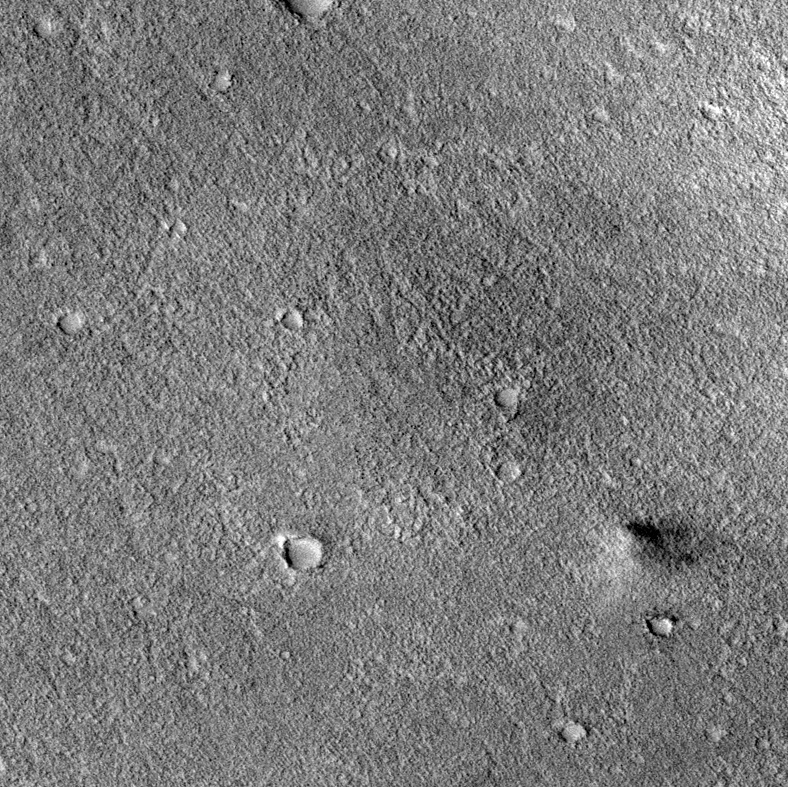dust_devil: (599, 518, 721, 590)
